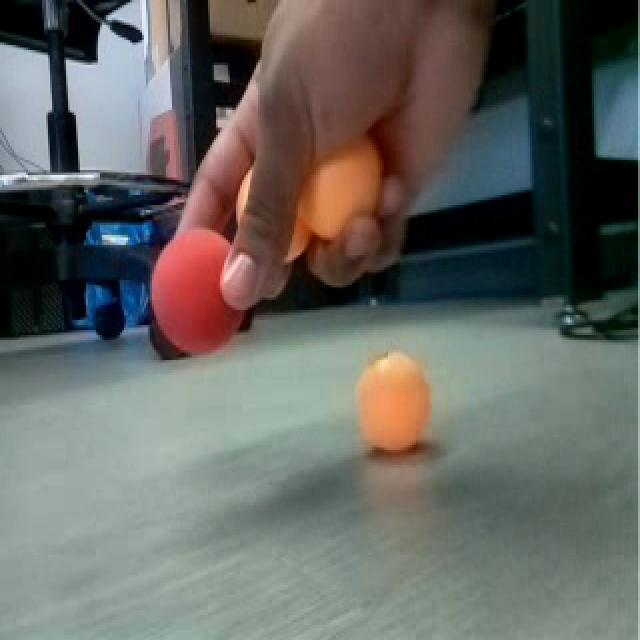oball: (232, 150, 312, 268), (352, 346, 436, 456), (298, 135, 384, 240)
